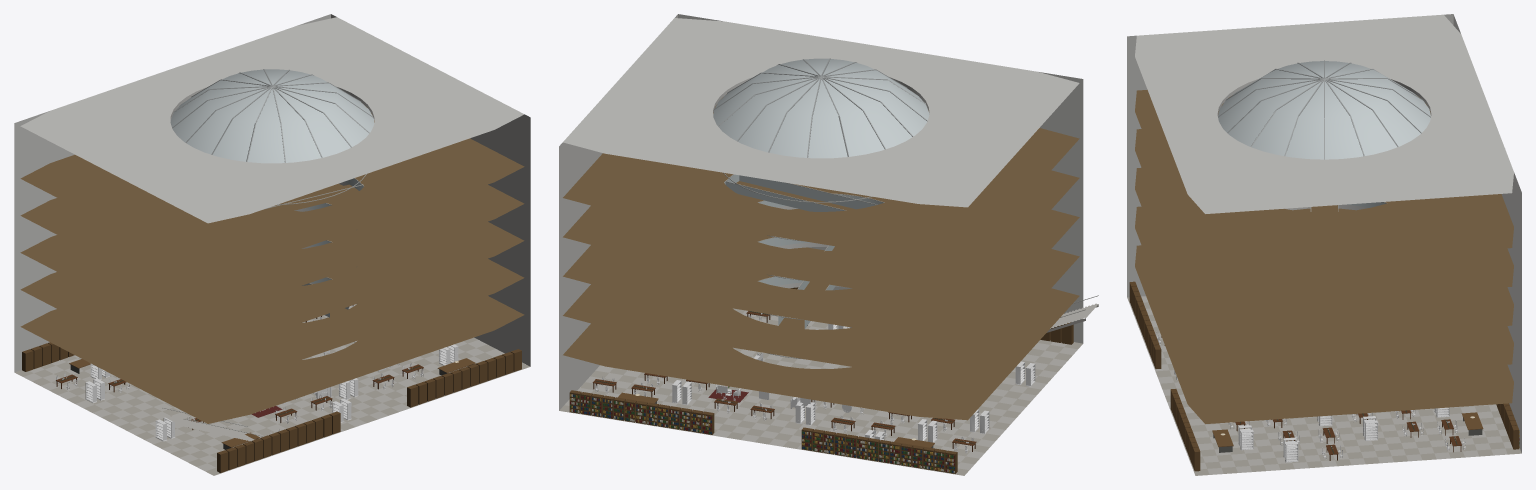
File: library_int.glb
3 renders of one model, left to right at view 1: azimuth 30°, elevation 25°; view 2: azimuth 150°, elevation 25°; view 3: azimuth 270°, elevation 25°, orthographic. The views are drawn at different scales.
Parts seen in each view (by area): view 1: I_x_veneer, I_x_plaster, I_x_marble_white, I_glassI, I_metal, I_p_wooden_bookshelf_worn__0; view 2: I_x_veneer, I_x_plaster, I_glassI, I_x_marble_white, I_paint, I_metal, I_p_wooden_bookshelf_worn__0, I_p_WoodenChair_01__0; view 3: I_x_veneer, I_x_plaster, I_glassI, I_x_marble_white, I_metal, I_p_wooden_bookshelf_worn__0, I_p_WoodenChair_01__0.
Part boxes in pixels (left/top/right/bottom): I_x_veneer: left=20, top=106, right=524, bottom=472; I_x_plaster: left=14, top=14, right=530, bottom=372; I_x_marble_white: left=15, top=304, right=530, bottom=475; I_glassI: left=170, top=69, right=374, bottom=317; I_metal: left=70, top=69, right=473, bottom=449; I_p_wooden_bookshelf_worn__0: left=85, top=340, right=458, bottom=441; I_x_veneer: left=563, top=94, right=1079, bottom=473; I_x_plaster: left=559, top=14, right=1083, bottom=410; I_glassI: left=713, top=58, right=929, bottom=328; I_x_marble_white: left=559, top=303, right=1098, bottom=475; I_paint: left=570, top=394, right=954, bottom=473; I_metal: left=655, top=58, right=1098, bottom=447; I_p_wooden_bookshelf_worn__0: left=672, top=324, right=1035, bottom=442; I_p_WoodenChair_01__0: left=595, top=315, right=973, bottom=453; I_x_veneer: left=1129, top=89, right=1519, bottom=471; I_x_plaster: left=1127, top=14, right=1521, bottom=452; I_glassI: left=1218, top=61, right=1430, bottom=207; I_x_marble_white: left=1127, top=296, right=1521, bottom=475; I_metal: left=1213, top=60, right=1482, bottom=452; I_p_wooden_bookshelf_worn__0: left=1174, top=370, right=1449, bottom=462; I_p_WoodenChair_01__0: left=1156, top=331, right=1465, bottom=459.
Size of the model in its own units: 48.87 by 33.99 by 40.59.
